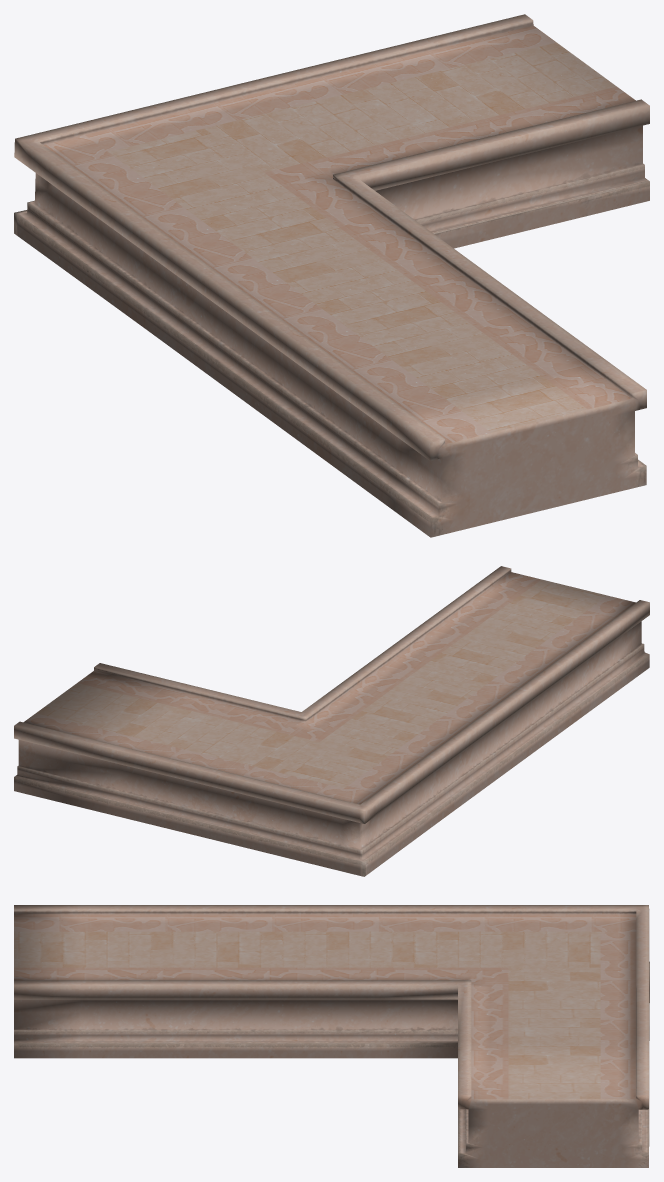
The model's file is 右拐路段.fbx.
3 views of the same model, one above another, from view 1: azimuth 30°, elevation 25°; view 2: azimuth 150°, elevation 25°; view 3: azimuth 270°, elevation 25° (orthographic). The views are drawn at different scales.
Visible parts, largest first — view 1: 平面.010; view 2: 平面.010; view 3: 平面.010.
Boxes of the visible parts, box(x1,y1,x2,y2) form: 平面.010: box(14, 14, 649, 537); 平面.010: box(14, 566, 649, 876); 平面.010: box(14, 905, 649, 1167).
Size of the model in its own units: 731 by 130 by 1032.
